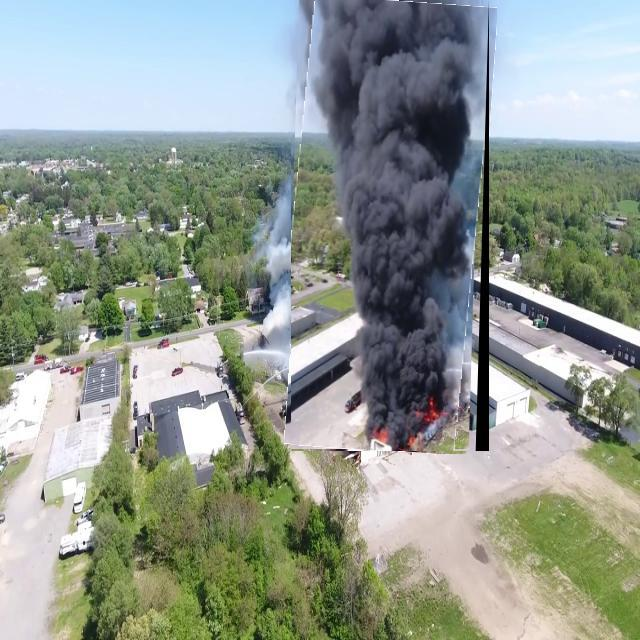fire: (365, 425, 389, 443), (422, 398, 441, 420), (405, 433, 421, 450)
smoke: (317, 7, 451, 408)
